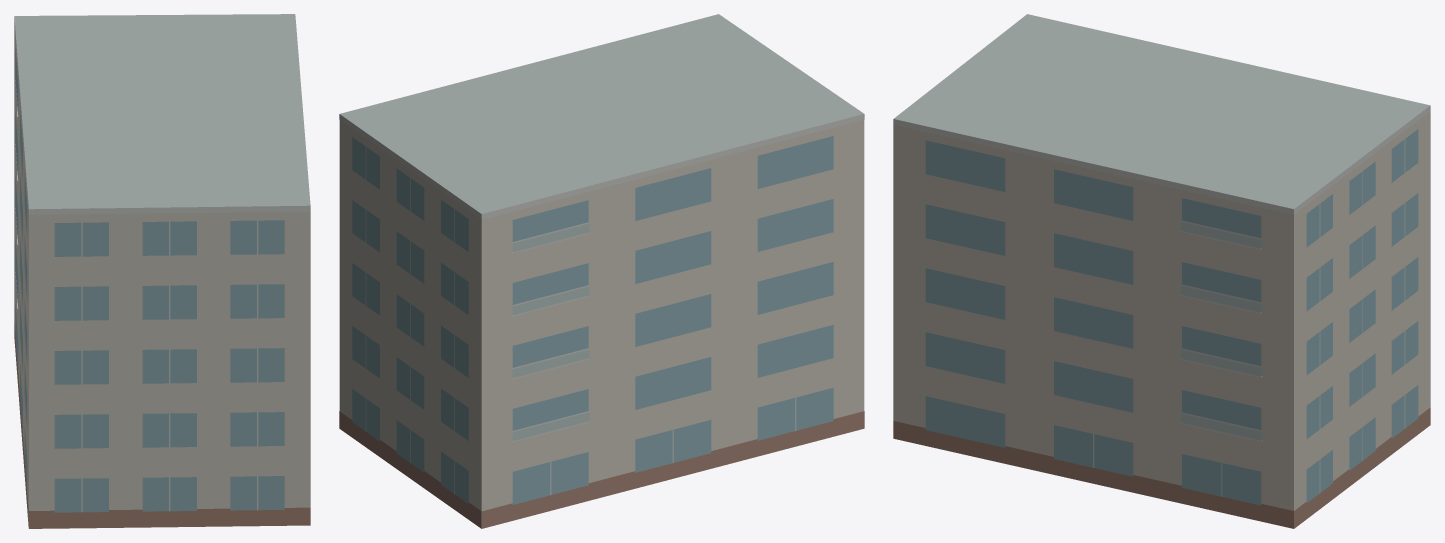
Rendered from survey-upis-32846101.glb.
3 views of the same model, side by side, from view 1: azimuth 30°, elevation 25°; view 2: azimuth 150°, elevation 25°; view 3: azimuth 270°, elevation 25° (orthographic).
Visible parts, largest first — view 1: survey-upis-32846101.tmp; view 2: survey-upis-32846101.tmp; view 3: survey-upis-32846101.tmp.
Part boxes in pixels (x1,y1,x2,y2): survey-upis-32846101.tmp: (14,14,310,528); survey-upis-32846101.tmp: (339,14,864,528); survey-upis-32846101.tmp: (893,14,1430,528).
Bounding box in the file's own units: 17.68 × 13.5 × 20.56.
